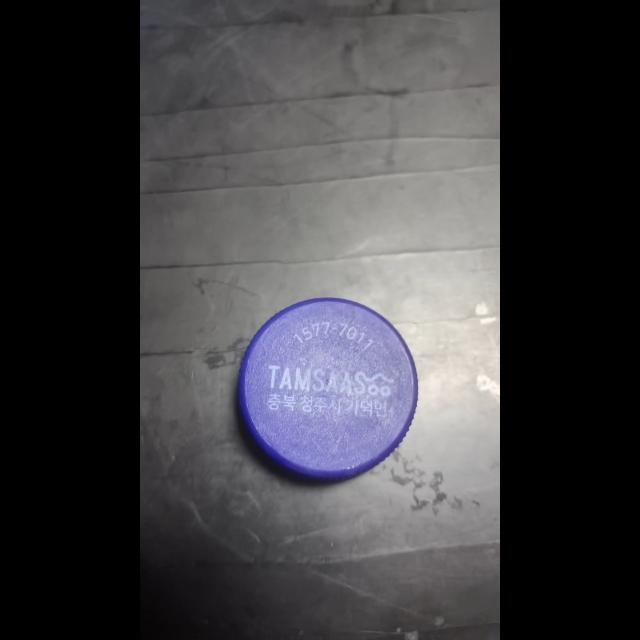plastic_bottle_cap: (234, 293, 422, 485)
